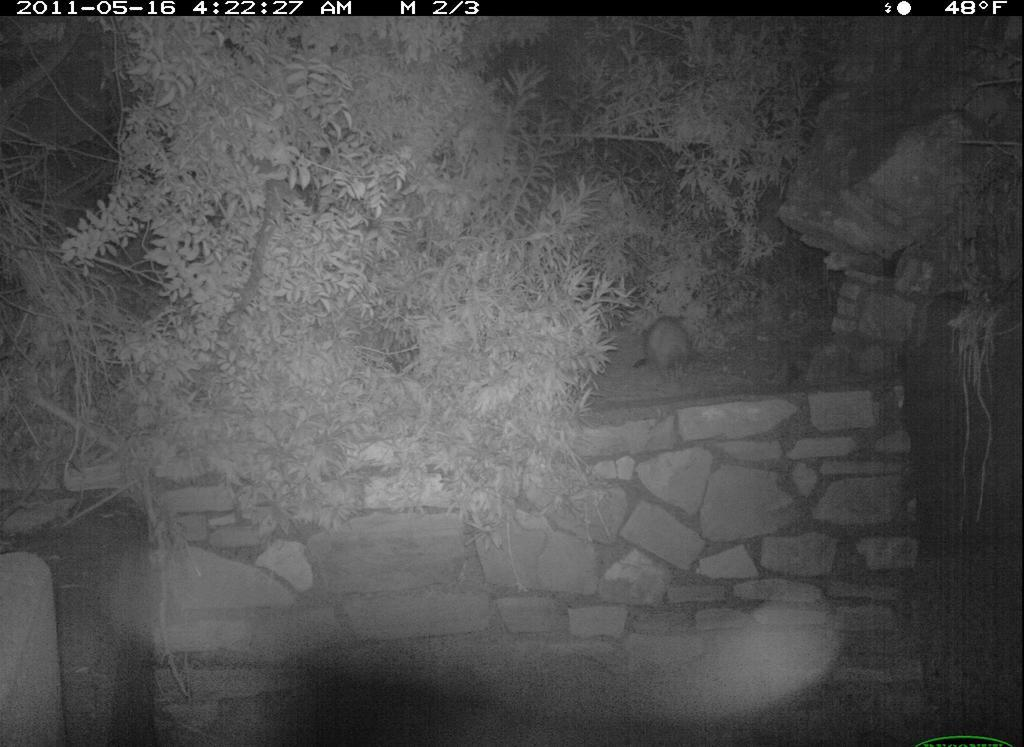opossum: (625, 313, 712, 387)
